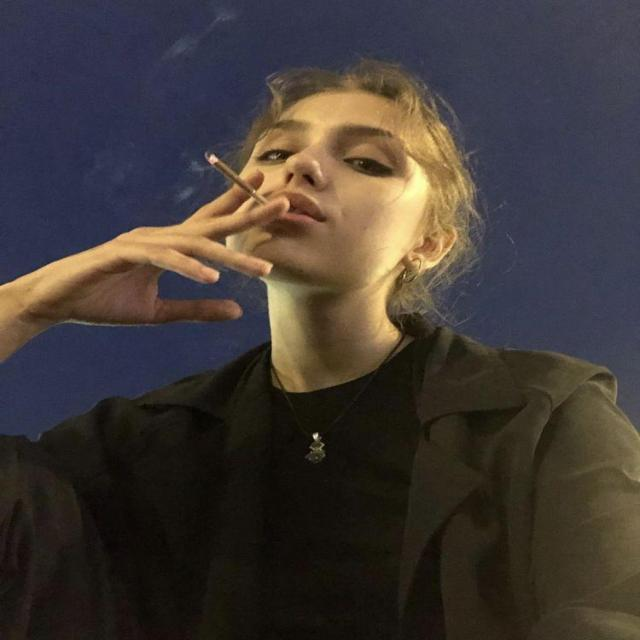cigarette: (182, 144, 294, 224)
